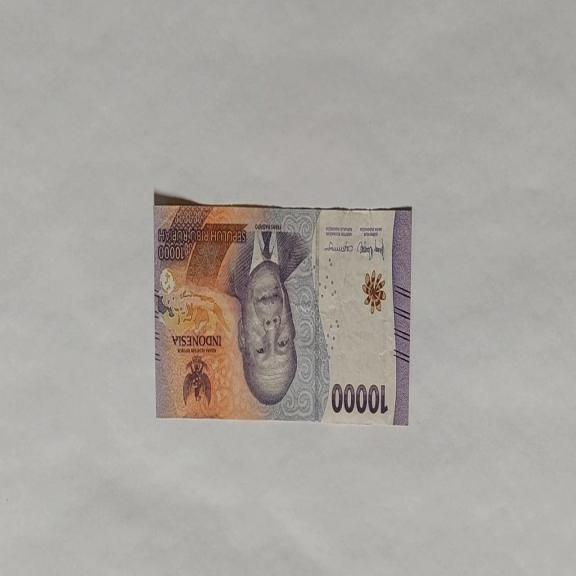Kertas: (153, 194, 412, 425)
